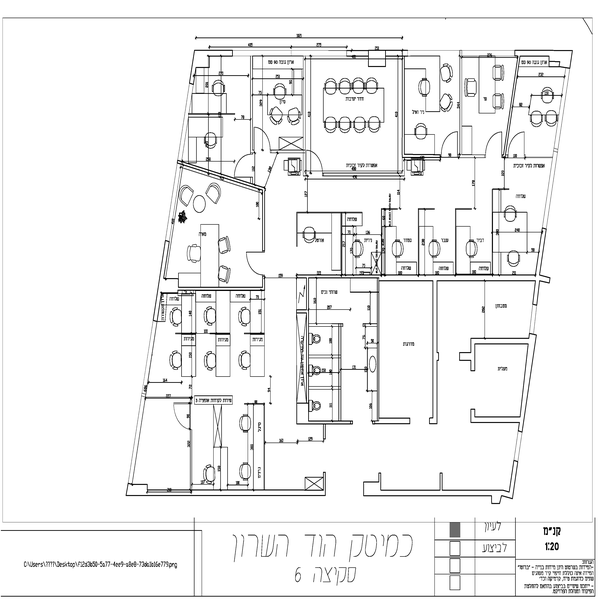door: (228, 148, 255, 183), (297, 144, 325, 176), (242, 246, 267, 279), (252, 124, 277, 152), (172, 399, 194, 429), (483, 130, 506, 158), (441, 129, 461, 160), (511, 134, 531, 157)
